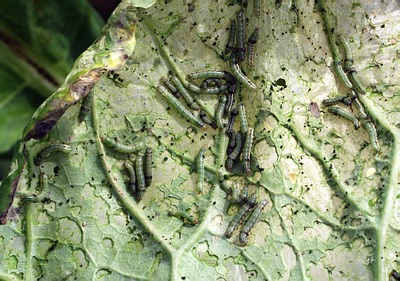Armyworm: (148, 83, 205, 131), (97, 127, 156, 154), (238, 201, 270, 249), (193, 140, 215, 203), (24, 177, 59, 208), (38, 138, 76, 162), (80, 82, 97, 128), (124, 152, 140, 192)
